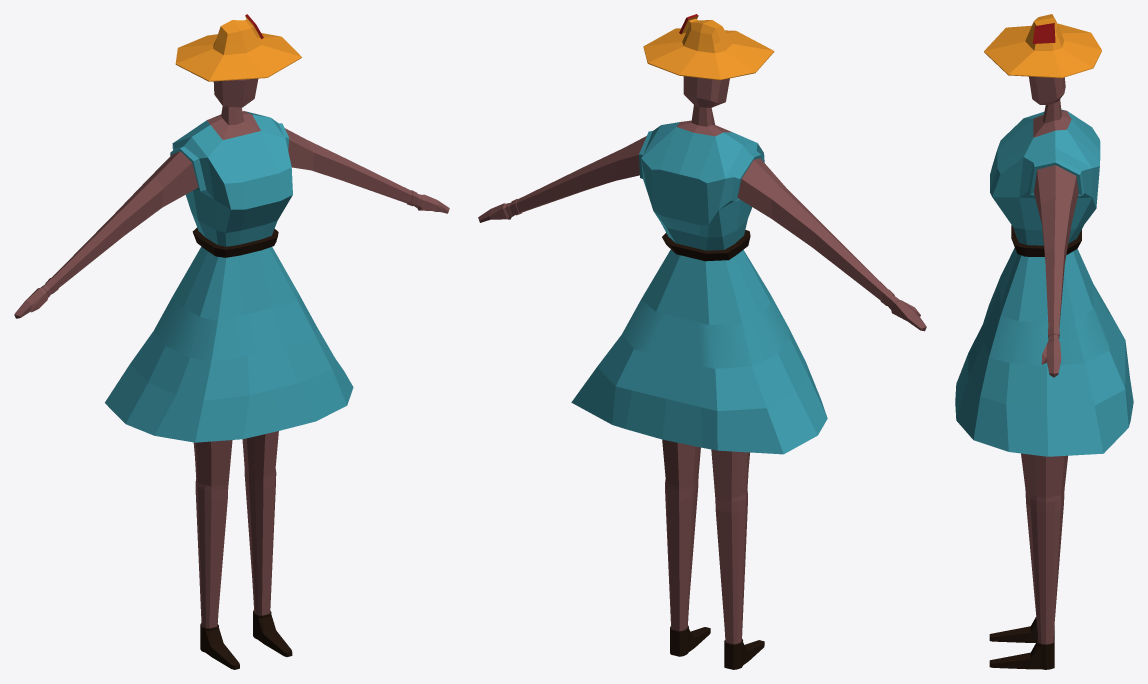
The model's file is Game_Char_Cutesy.FBX.
3 renders of one model, left to right at view 1: azimuth 30°, elevation 25°; view 2: azimuth 150°, elevation 25°; view 3: azimuth 270°, elevation 25°, orthographic. The views are drawn at different scales.
Parts seen in each view (by area): view 1: Box007; view 2: Box007; view 3: Box007.
Boxes of the visible parts, x1=… form: Box007: x1=14, y1=14, x2=449, y2=669; Box007: x1=478, y1=14, x2=926, y2=669; Box007: x1=955, y1=14, x2=1133, y2=669.
Size of the model in its own units: 21.93 by 29.92 by 7.59.
